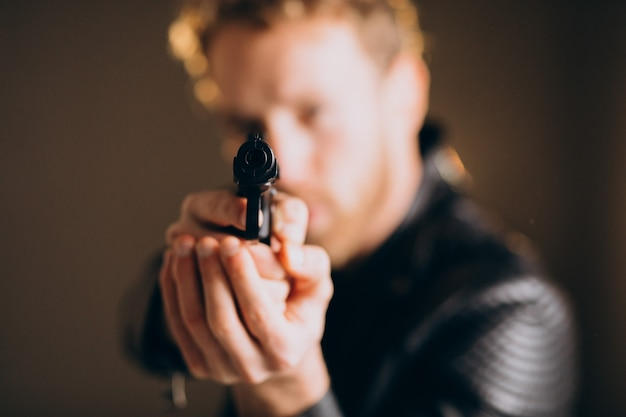gun: (233, 130, 282, 240)
